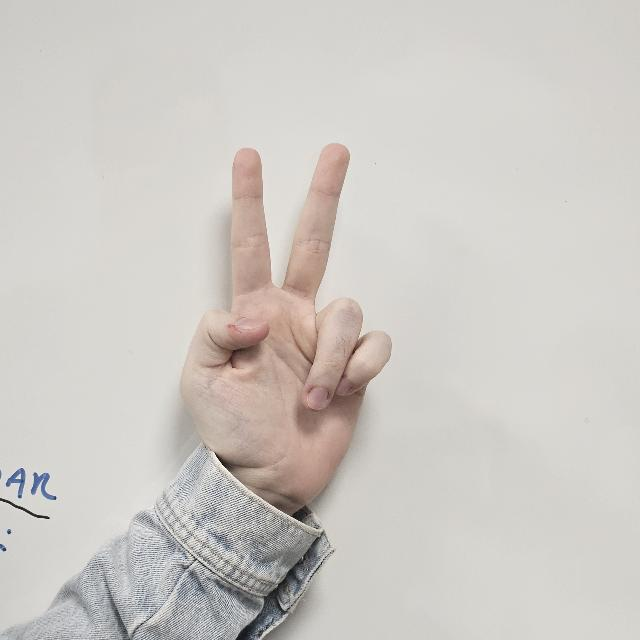Triangulo: (182, 145, 396, 521)
